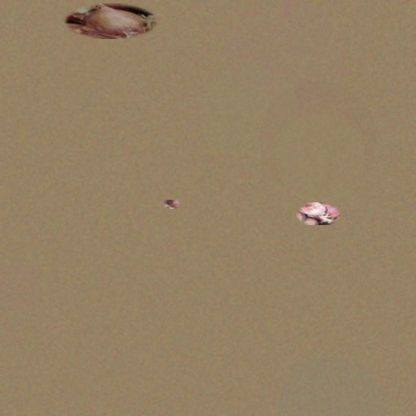healthy: (63, 3, 159, 39)
sprouted: (297, 202, 340, 225), (164, 200, 180, 209)
